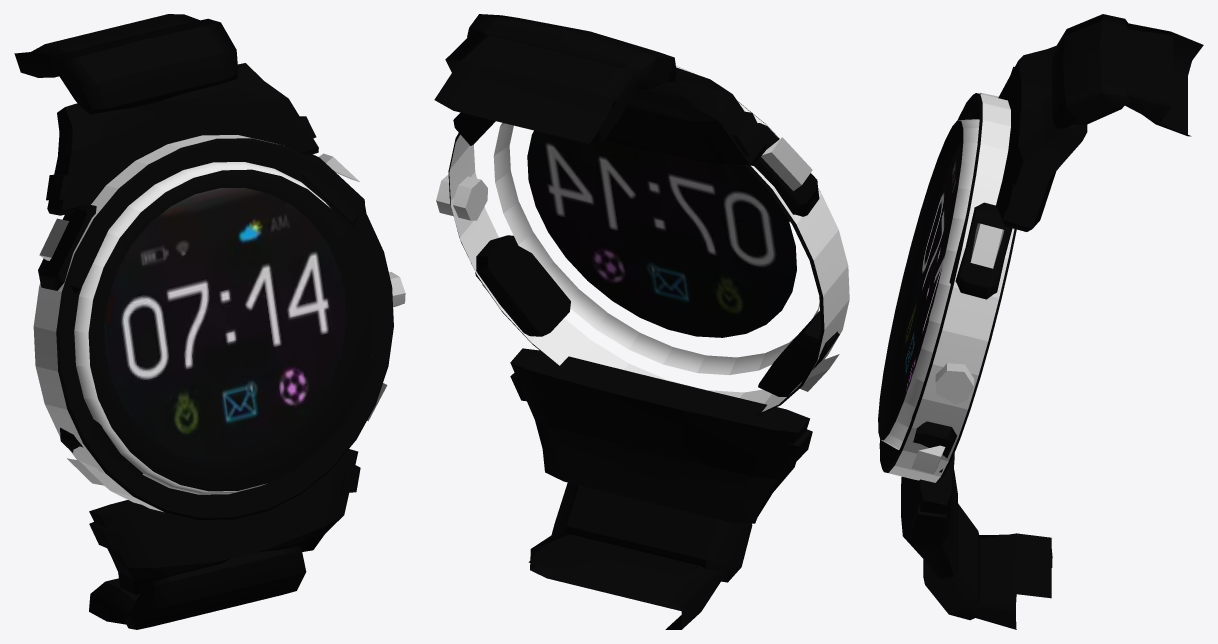
Rendered from Watch.fbx.
3 views of the same model, side by side, from view 1: azimuth 30°, elevation 25°; view 2: azimuth 150°, elevation 25°; view 3: azimuth 270°, elevation 25° (orthographic). The views are drawn at different scales.
Visible parts, largest first — view 1: pasted__polySurface43; view 2: pasted__polySurface43; view 3: pasted__polySurface43.
Part boxes in pixels (left/top/right/bottom): pasted__polySurface43: left=14, top=14, right=405, bottom=629; pasted__polySurface43: left=434, top=14, right=849, bottom=629; pasted__polySurface43: left=878, top=14, right=1203, bottom=629.
Size of the model in its own units: 5.96 by 8.8 by 4.74.
